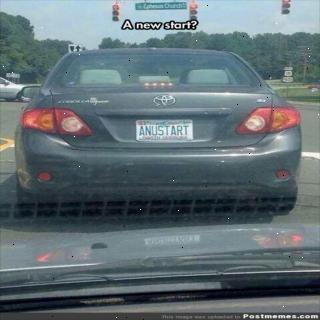license: (134, 120, 195, 143)
